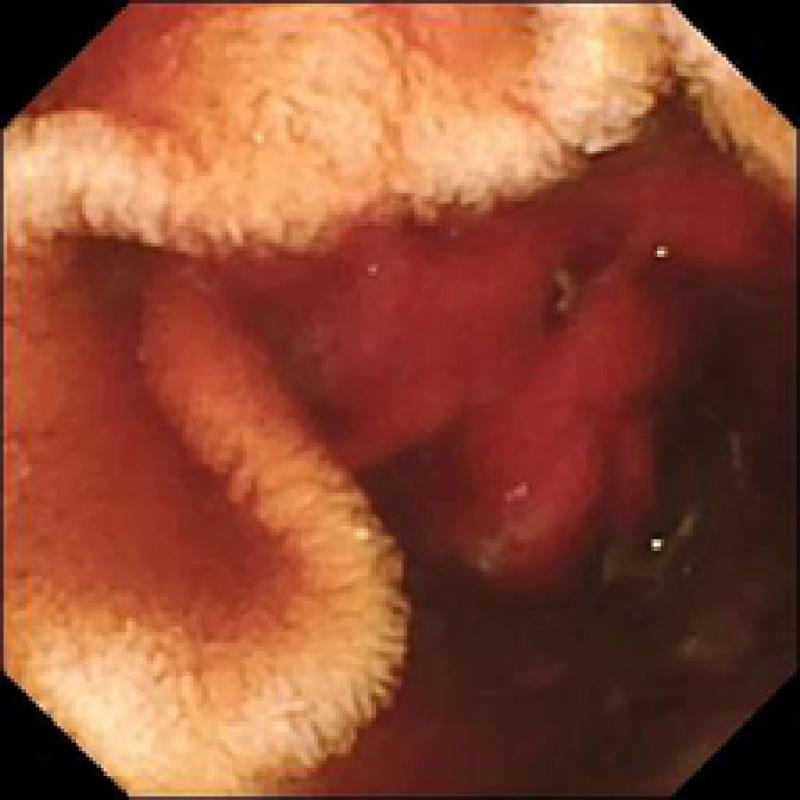bleeding: (225, 150, 786, 618)
